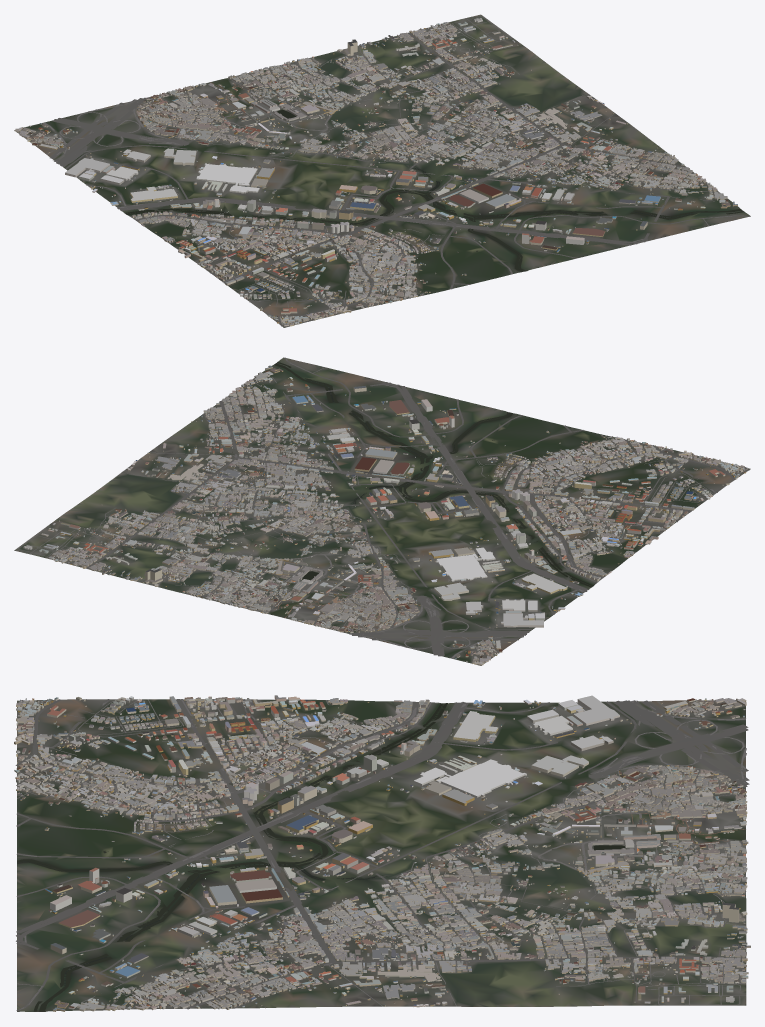
3 renders of one model, top to bottom at view 1: azimuth 30°, elevation 25°; view 2: azimuth 150°, elevation 25°; view 3: azimuth 270°, elevation 25°, orthographic. The views are drawn at different scales.
Visible parts, largest first — view 1: ground, buildings, roads, water; view 2: ground, buildings, roads, water; view 3: ground, buildings, roads, water.
Boxes of the visible parts, left/top/right/bottom form: ground: left=14, top=14, right=750, bottom=327; buildings: left=14, top=18, right=737, bottom=326; roads: left=31, top=16, right=749, bottom=326; water: left=125, top=110, right=744, bottom=271; ground: left=14, top=357, right=750, bottom=665; buildings: left=23, top=365, right=747, bottom=665; roads: left=18, top=357, right=749, bottom=662; water: left=274, top=362, right=593, bottom=587; ground: left=17, top=699, right=746, bottom=1011; buildings: left=14, top=695, right=750, bottom=1011; roads: left=15, top=699, right=749, bottom=1011; water: left=17, top=703, right=624, bottom=1011.
Size of the model in its own units: 2848 by 77.71 by 2831.
